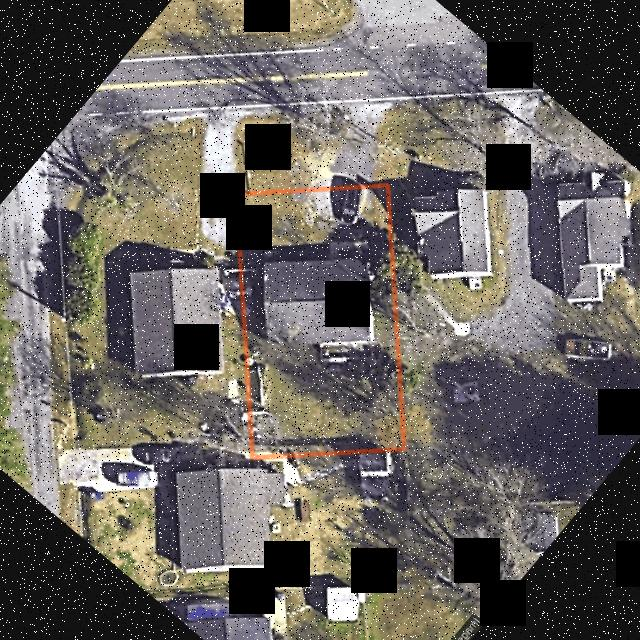Driveway: (318, 188, 384, 227)
Extra Driveway: (330, 123, 375, 178), (352, 102, 390, 135)
House: (265, 255, 368, 345)
